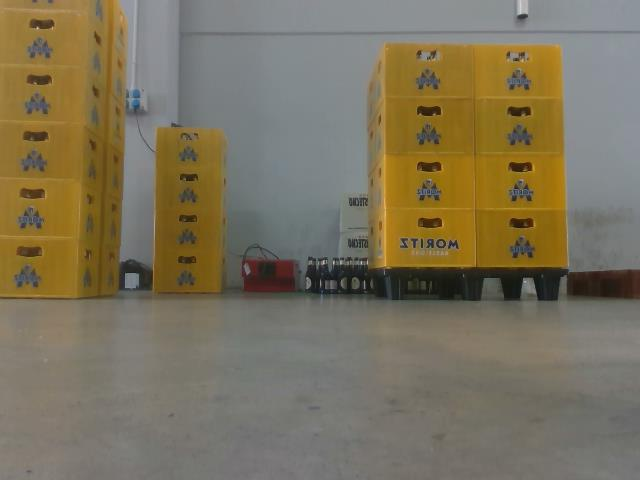block: (534, 270, 567, 300), (384, 268, 412, 301), (455, 270, 485, 300)
front: (377, 262, 574, 301)
hole pallet: (407, 268, 464, 298), (484, 273, 545, 300)
